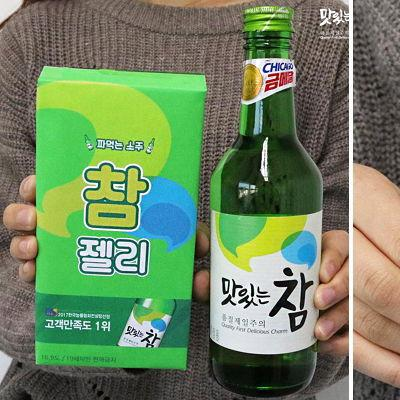soju: (209, 4, 325, 397)
